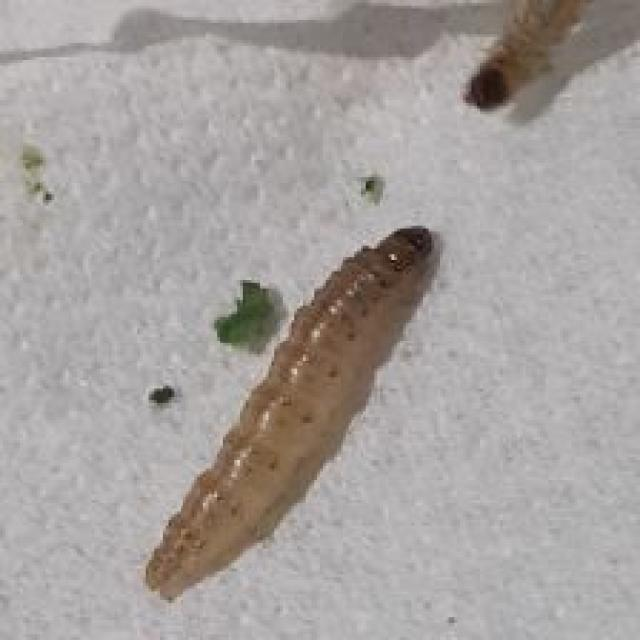white mucus: (119, 197, 460, 600)
